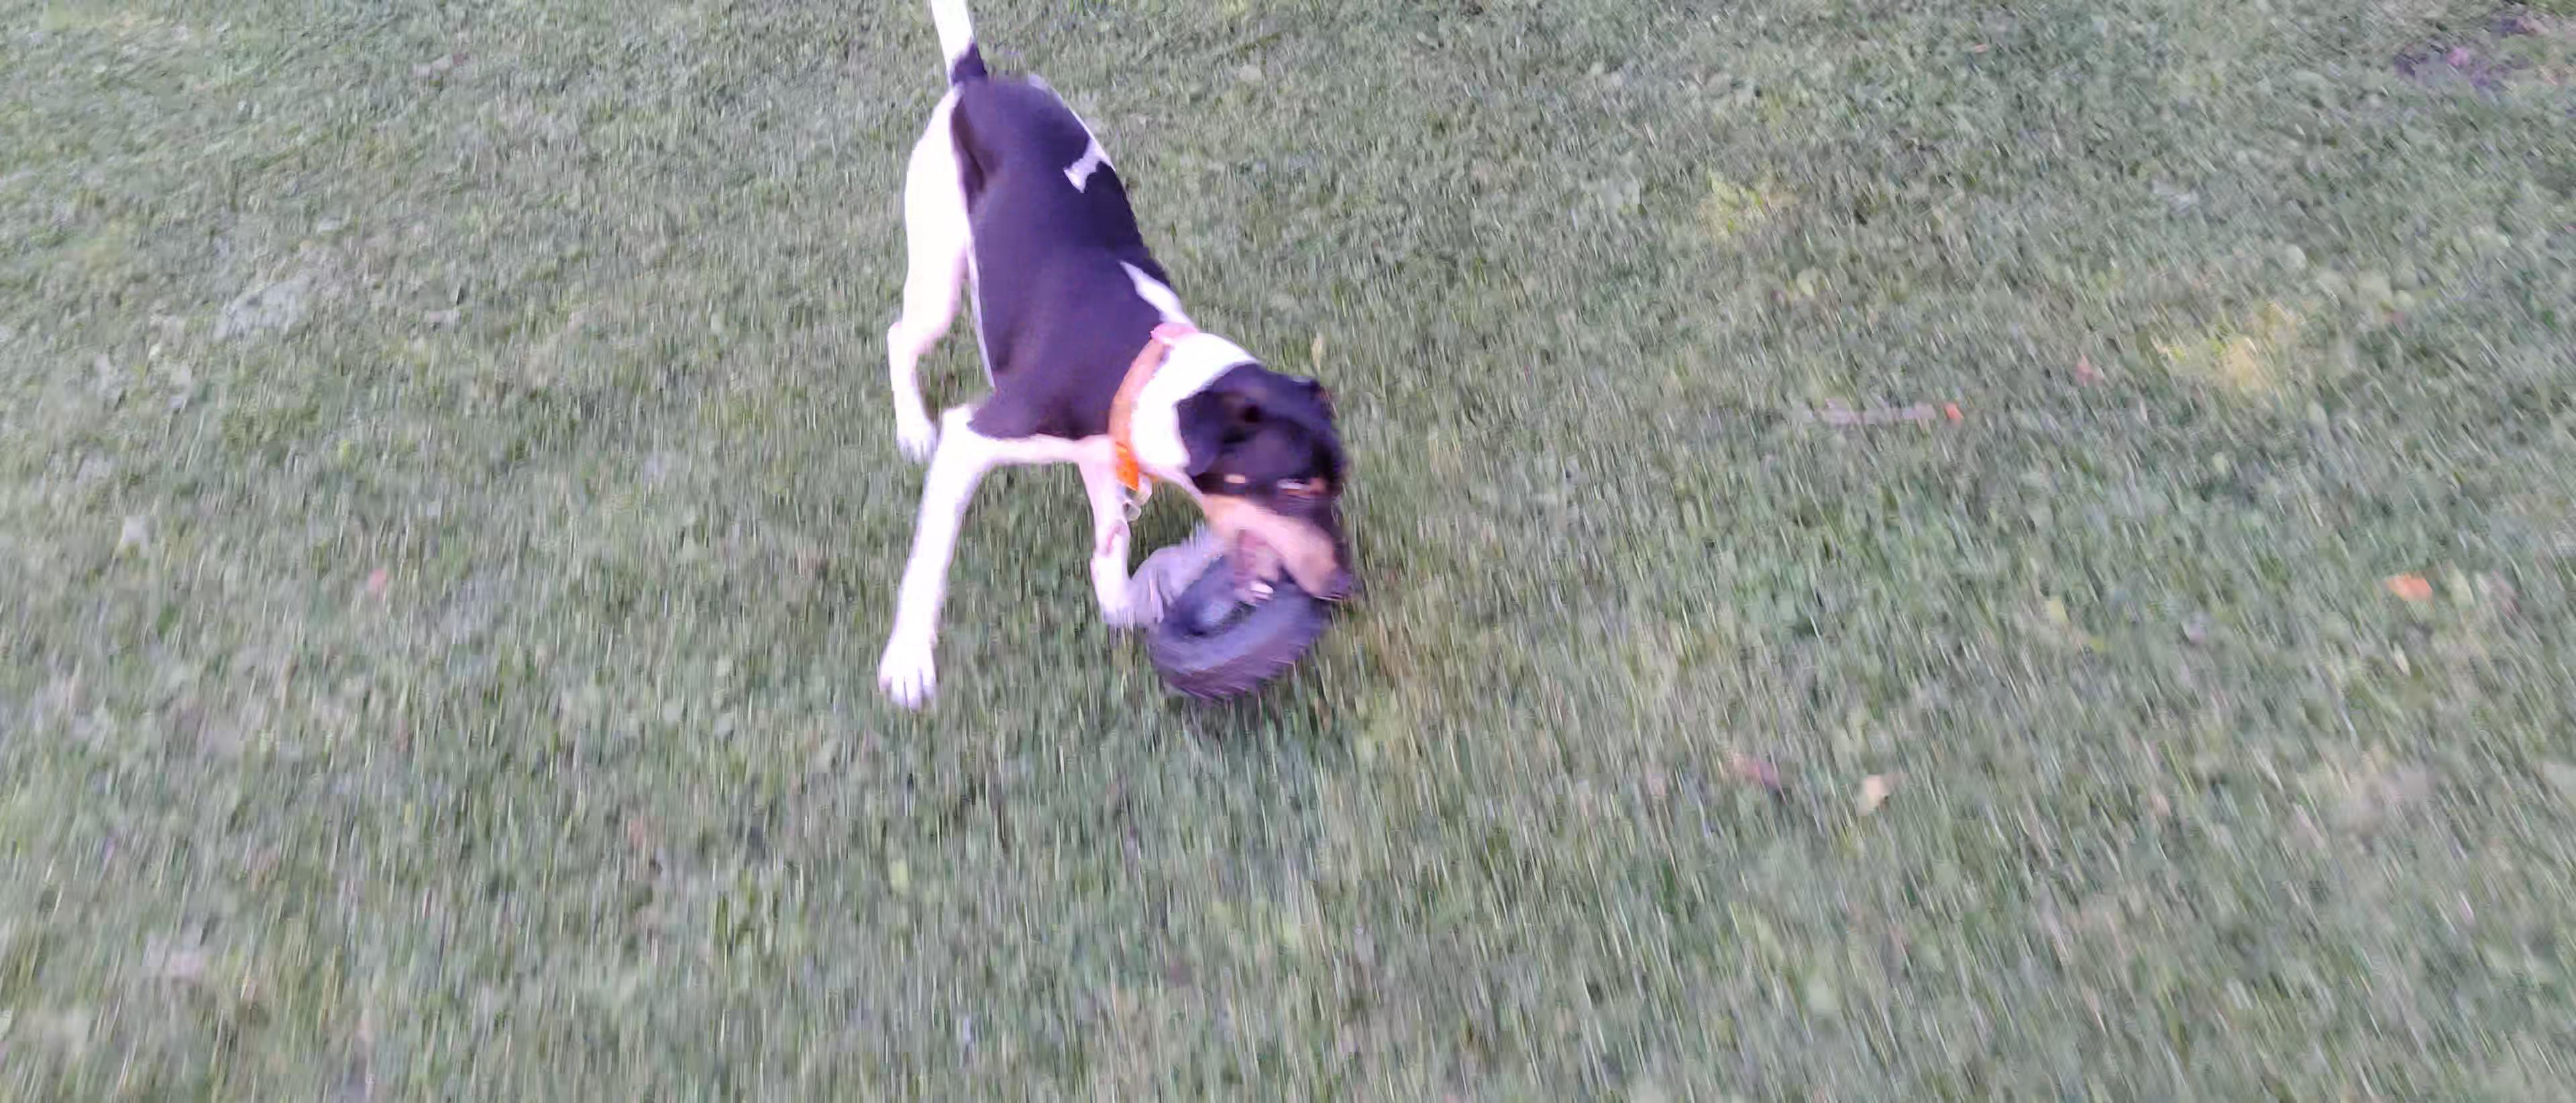Dog: (828, 0, 1372, 722)
